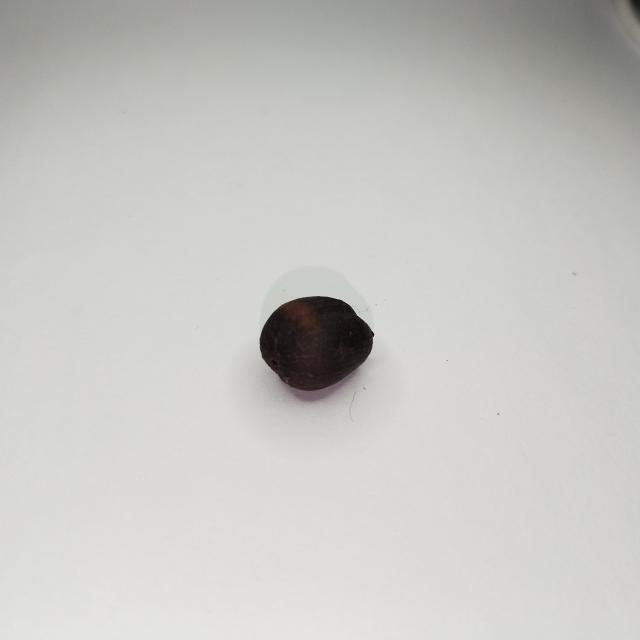Danado: (260, 296, 373, 391)
